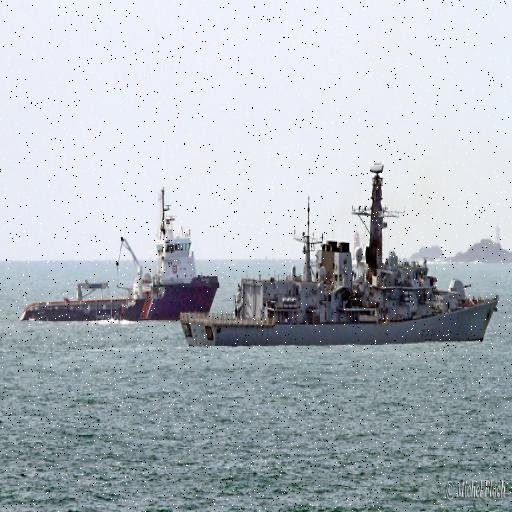Fragata: (181, 162, 503, 353)
